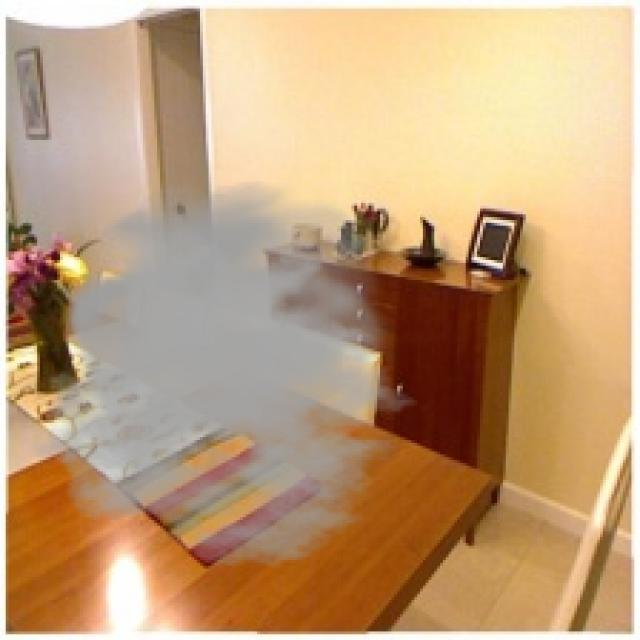smoke: (32, 180, 437, 569)
